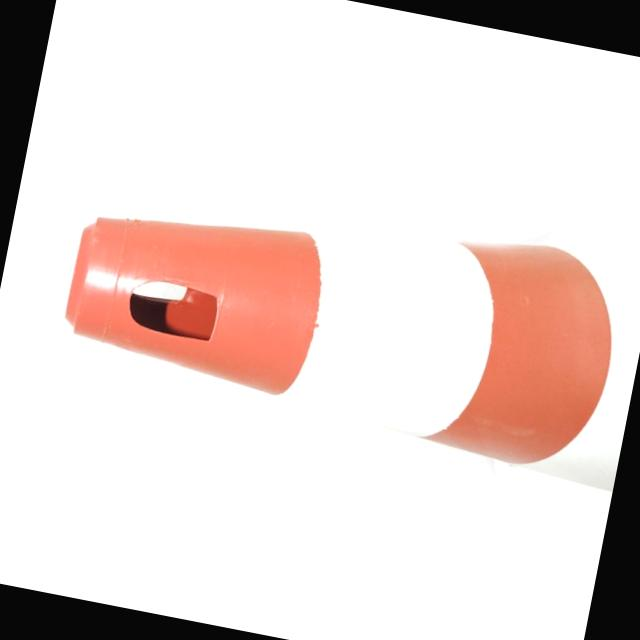cone: (28, 118, 640, 523)
